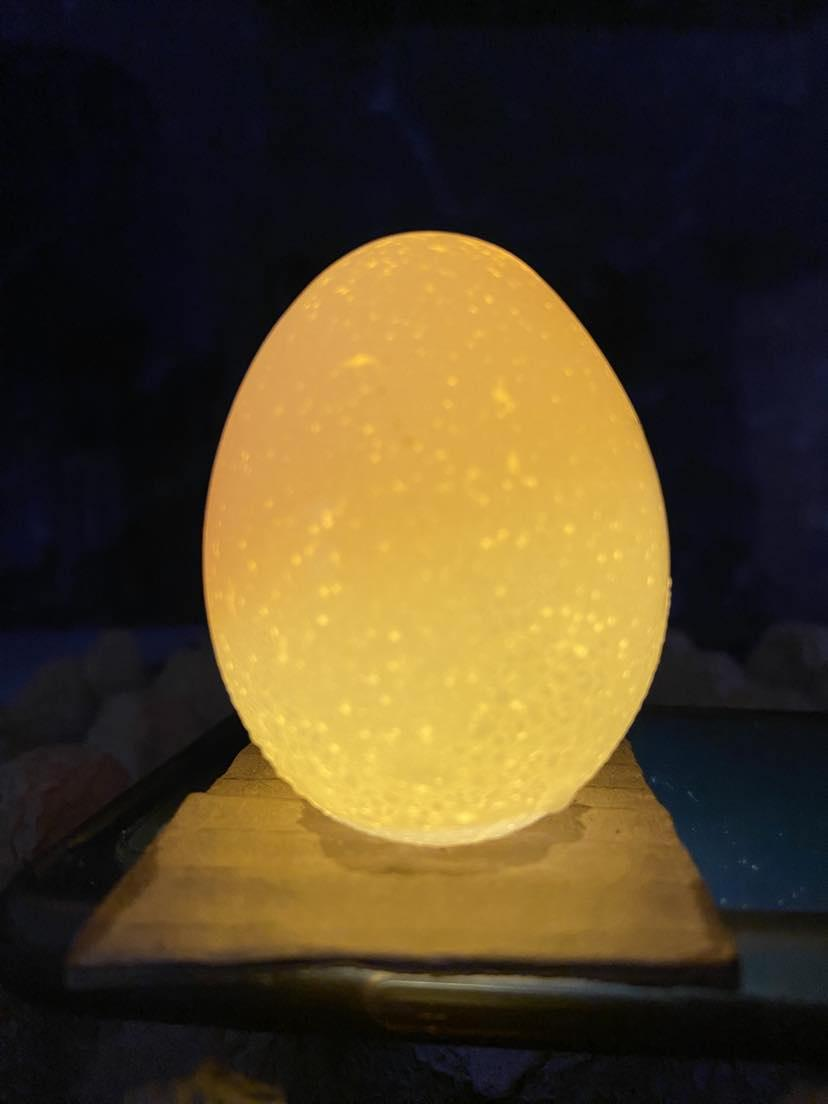AA - Premium: (195, 218, 682, 855)
